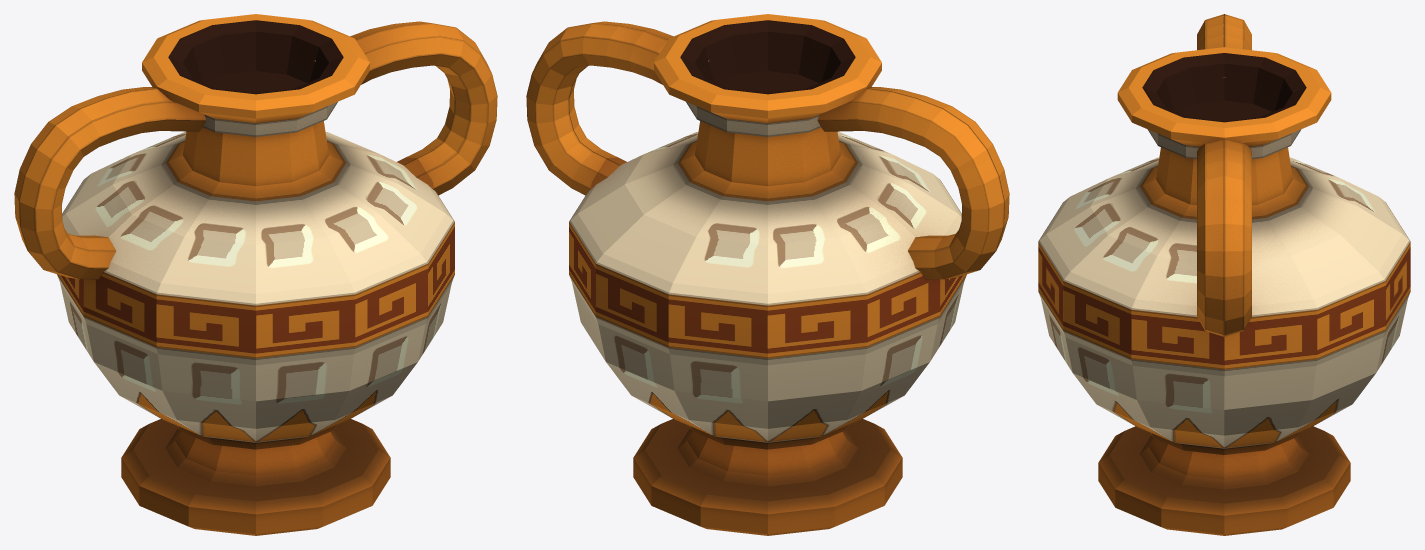
The model's file is ArtV8_Amphora2.fbx.
The picture shows the model from 3 angles, left to right: view 1: azimuth 30°, elevation 25°; view 2: azimuth 150°, elevation 25°; view 3: azimuth 270°, elevation 25°; orthographic projection. The views are drawn at different scales.
Parts seen in each view (by area): view 1: ArtV8_Amphora2; view 2: ArtV8_Amphora2; view 3: ArtV8_Amphora2.
Boxes of the visible parts, <box> form: ArtV8_Amphora2: <box>14,14,497,535</box>; ArtV8_Amphora2: <box>526,14,1009,535</box>; ArtV8_Amphora2: <box>1038,14,1410,535</box>.
Size of the model in its own units: 3.74 by 3.22 by 2.72.
